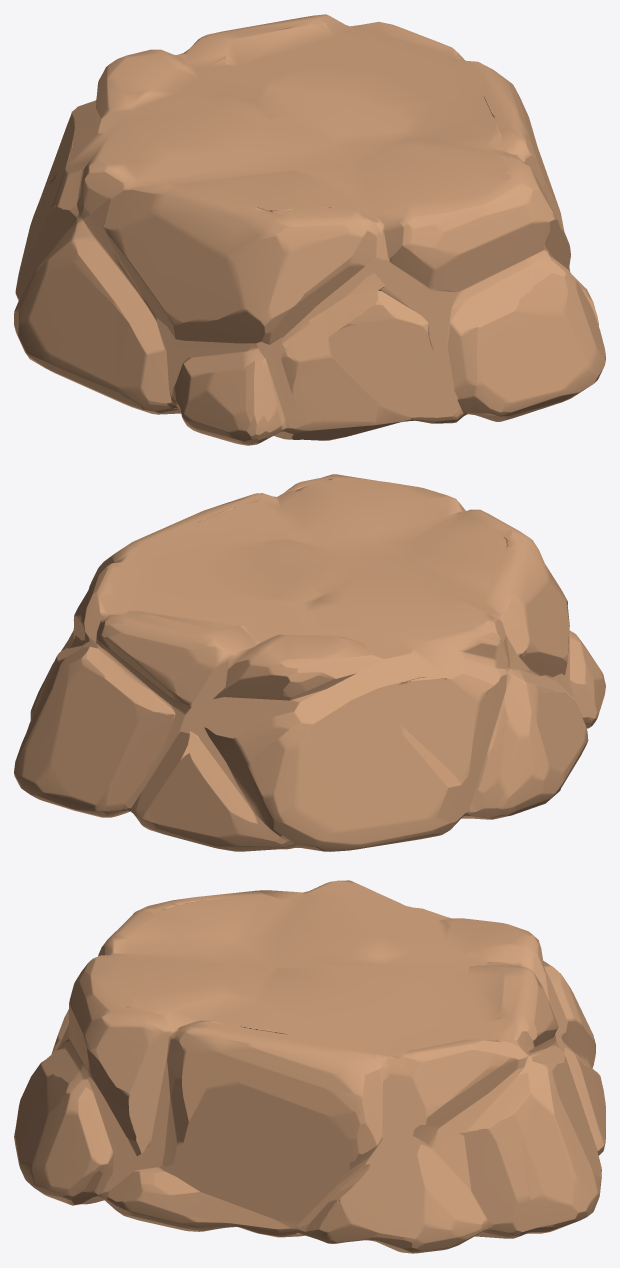
3 renders of one model, top to bottom at view 1: azimuth 30°, elevation 25°; view 2: azimuth 150°, elevation 25°; view 3: azimuth 270°, elevation 25°, orthographic. The views are drawn at different scales.
Visible parts, largest first — view 1: Mesh_20_LOD0; view 2: Mesh_20_LOD0; view 3: Mesh_20_LOD0.
Part boxes in pixels (box(x1,y1,x2,y2)): Mesh_20_LOD0: box(14, 14, 605, 445); Mesh_20_LOD0: box(14, 474, 605, 851); Mesh_20_LOD0: box(14, 880, 605, 1253).
Size of what is drawn, in the model's own units: 2637 by 974 by 2751.
